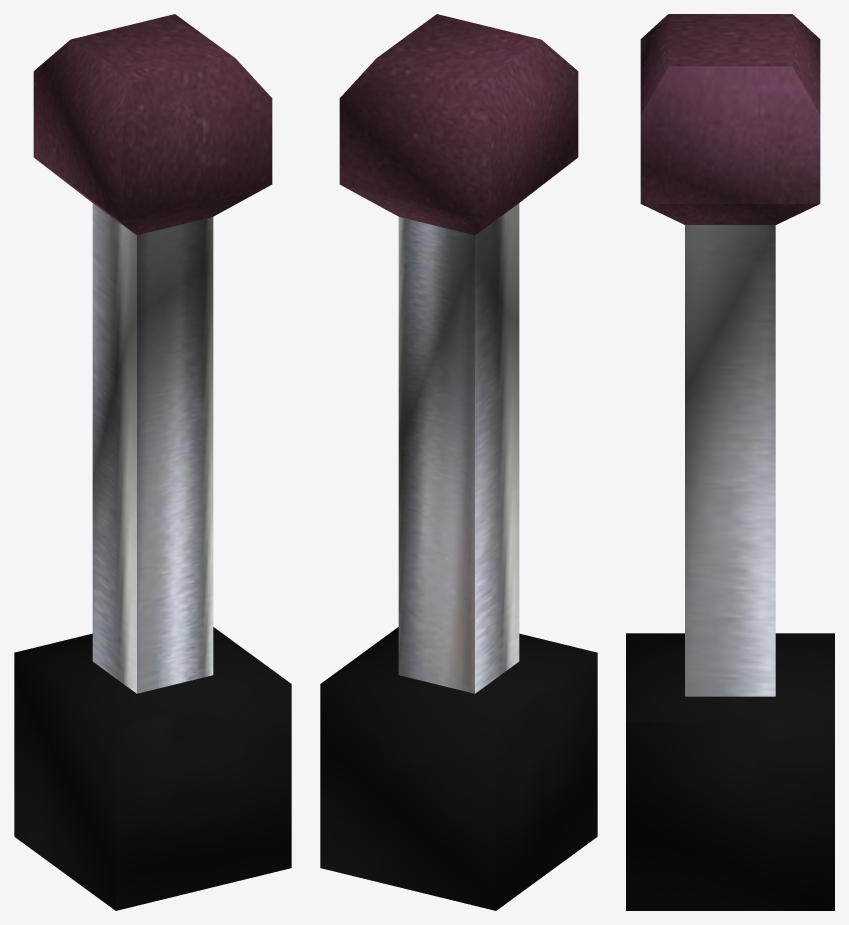
File: lever.obj
3 views of the same model, side by side, from view 1: azimuth 30°, elevation 25°; view 2: azimuth 150°, elevation 25°; view 3: azimuth 270°, elevation 25° (orthographic). The views are drawn at different scales.
Visible parts, largest first — view 1: Cube.024; view 2: Cube.024; view 3: Cube.024.
Part boxes in pixels (x1,y1,x2,y2): Cube.024: (14, 14, 291, 910); Cube.024: (320, 14, 597, 910); Cube.024: (626, 14, 834, 910).
Bounding box in the file's own units: 0.0698 × 0.3049 × 0.0698.
